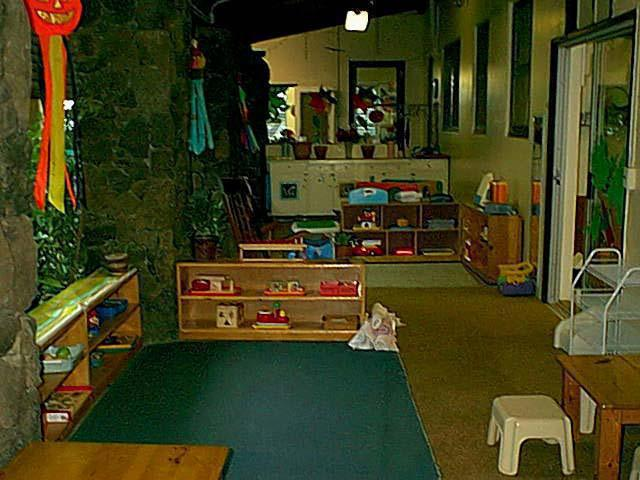Otro Obstaculo: (346, 300, 404, 356)
Puerta: (558, 45, 618, 314)
